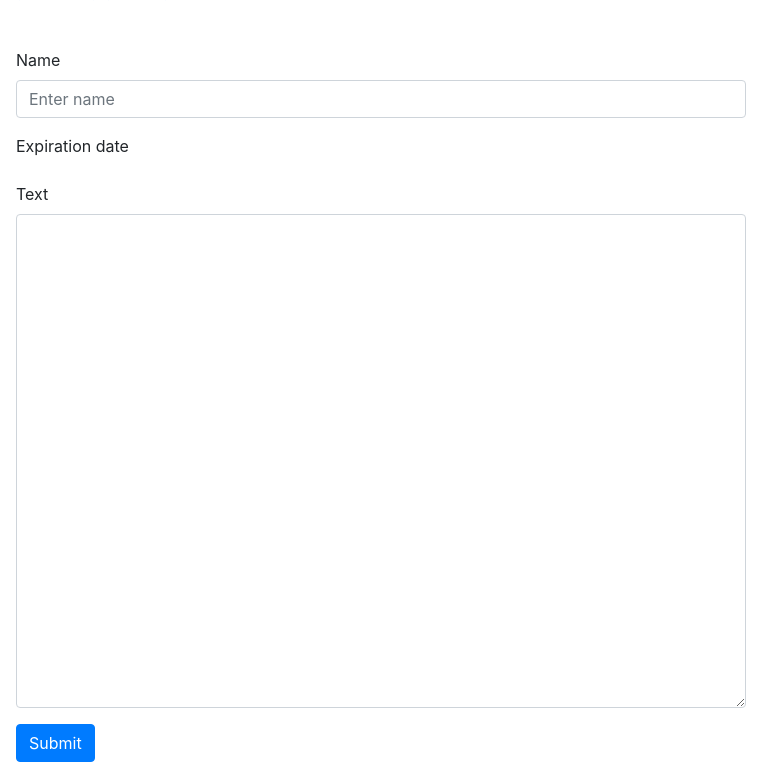
Test: Note creation test › Should save note correctly
The width and height of the screenshot is (763, 762).
(page scrolled)
Click the button with test id "submit".
click(56, 743)  # box [16,724,95,761]
(page scrolled)
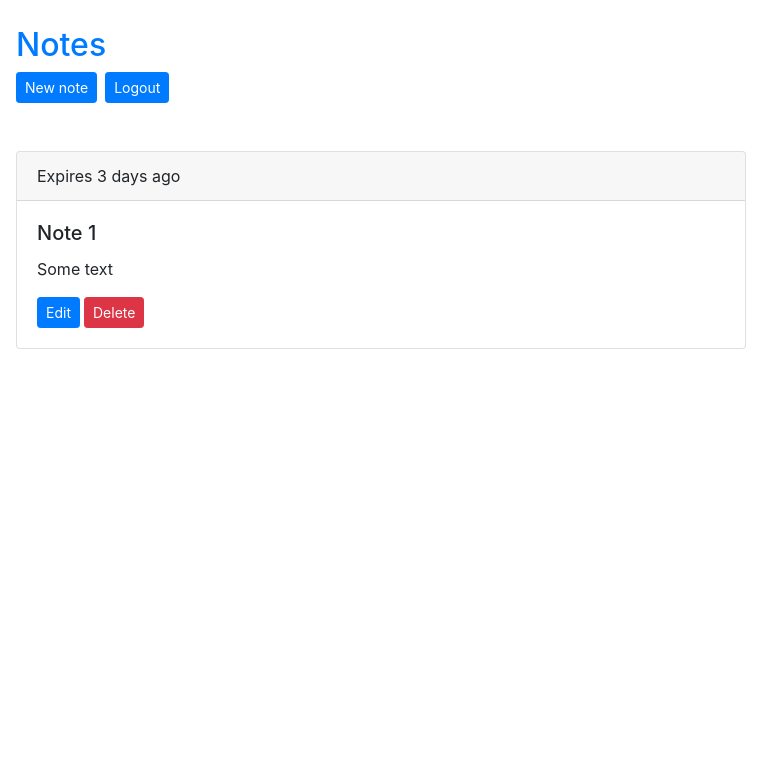
Result: the heading with test id "container" reads "Note 1" at [37,221,96,245]
